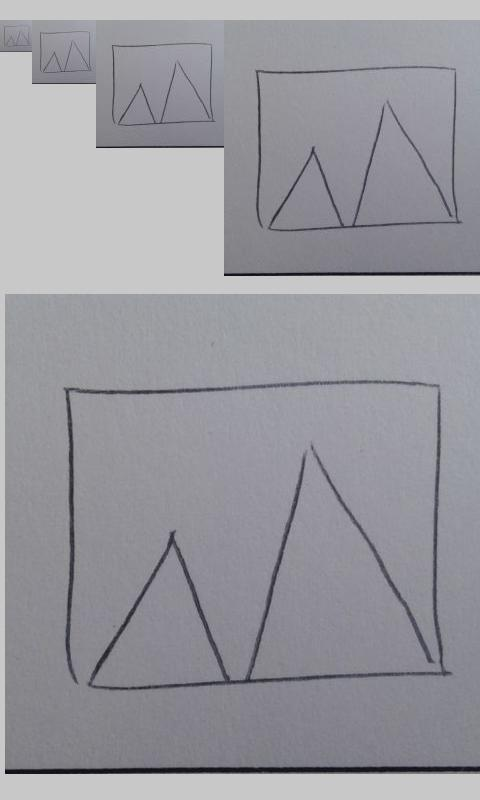image_view: (64, 376, 451, 692), (252, 63, 459, 234), (111, 42, 215, 126), (39, 30, 91, 74), (3, 25, 30, 47)
